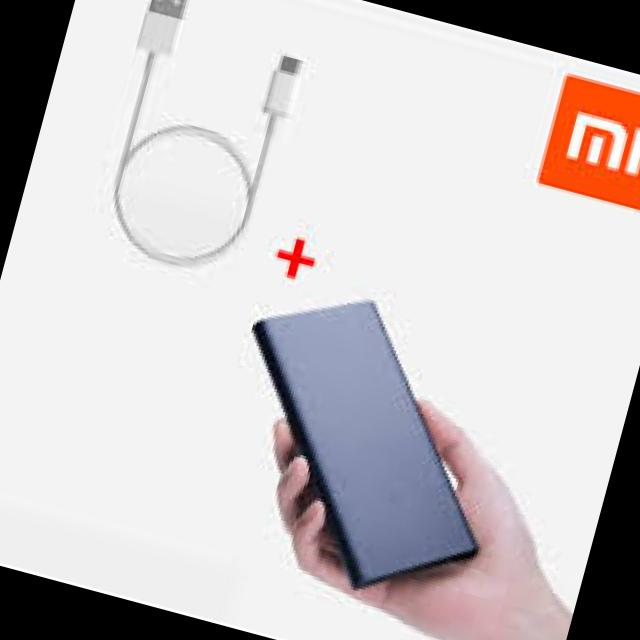power_bank: (194, 268, 536, 620)
